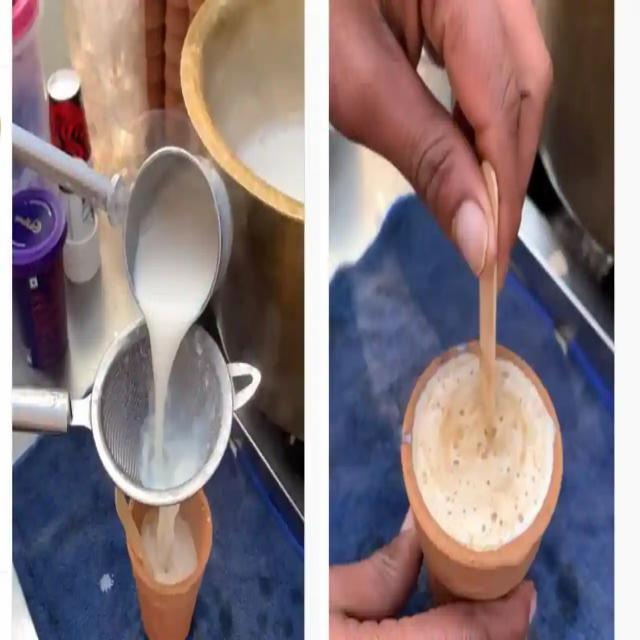Chai: (411, 349, 554, 543), (129, 172, 217, 476), (118, 510, 208, 575)
